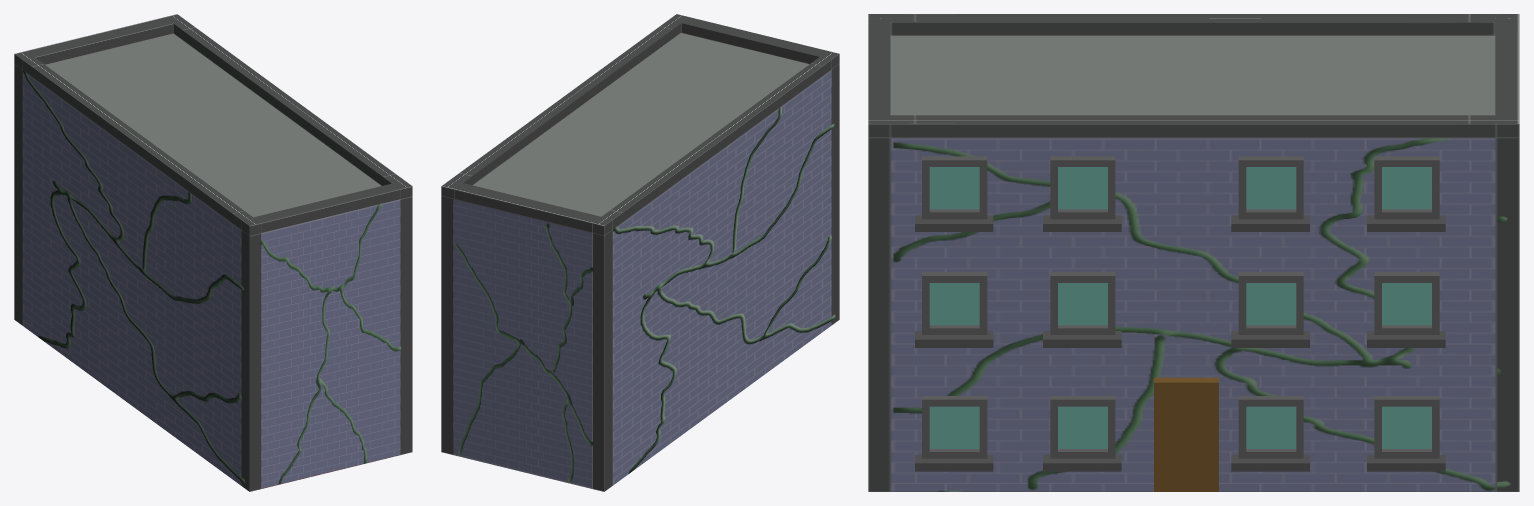
The model's file is Shortapartmentblue.fbx.
3 renders of one model, left to right at view 1: azimuth 30°, elevation 25°; view 2: azimuth 150°, elevation 25°; view 3: azimuth 270°, elevation 25°, orthographic. The views are drawn at different scales.
Parts seen in each view (by area): view 1: polySurface284; view 2: polySurface284; view 3: polySurface284.
Boxes of the visible parts, left/top/right/bottom form: polySurface284: left=14, top=14, right=412, bottom=491; polySurface284: left=441, top=14, right=839, bottom=491; polySurface284: left=868, top=14, right=1519, bottom=491.
Size of the model in its own units: 4.31 by 6.23 by 10.
